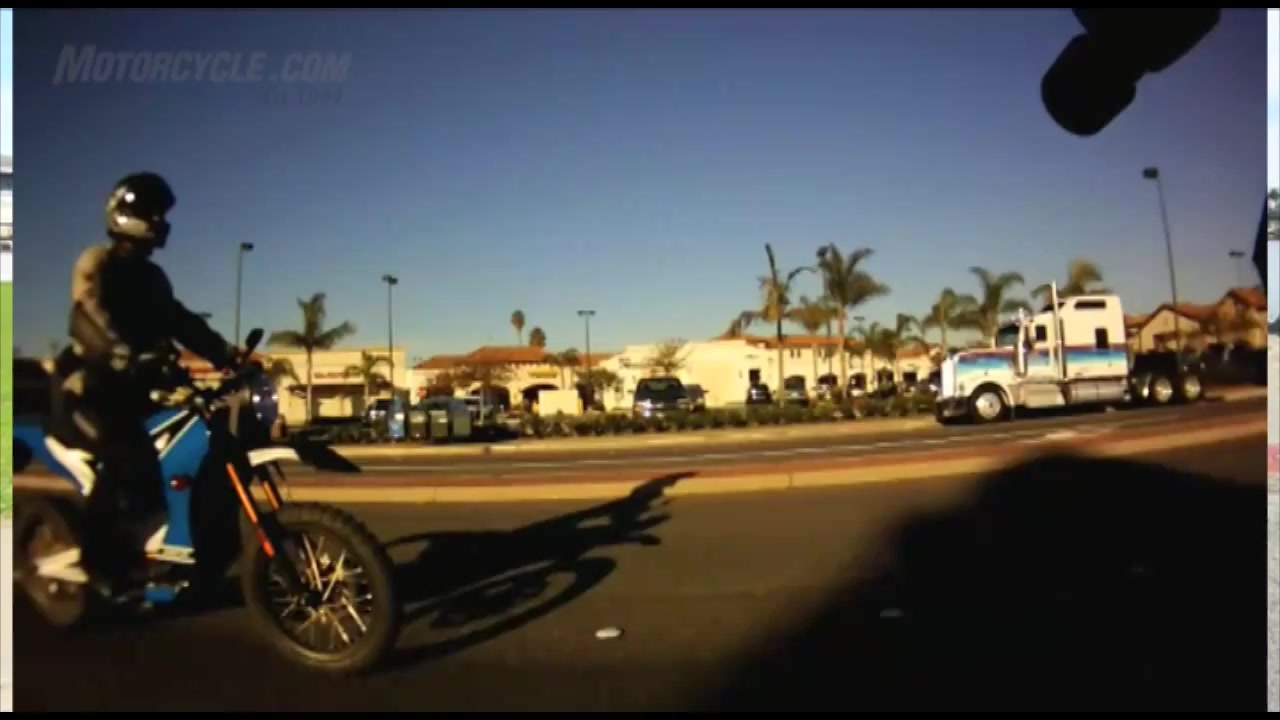motorbike: (18, 354, 402, 674)
